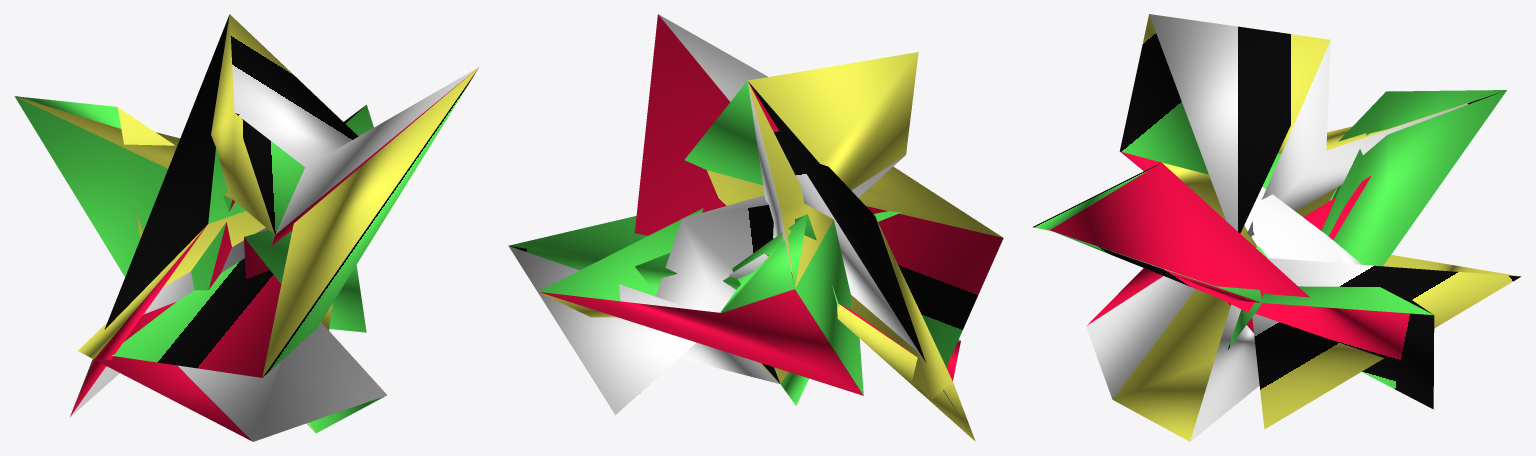
Rendered from junk0.fbx.
3 renders of one model, left to right at view 1: azimuth 30°, elevation 25°; view 2: azimuth 150°, elevation 25°; view 3: azimuth 270°, elevation 25°, orthographic. The views are drawn at different scales.
Visible parts, largest first — view 1: junk_Mesh; view 2: junk_Mesh; view 3: junk_Mesh.
Part boxes in pixels (x1,y1,x2,y2): junk_Mesh: [14, 14, 478, 441]; junk_Mesh: [508, 14, 1003, 441]; junk_Mesh: [1032, 14, 1521, 441].
Size of the model in its own units: 3.91 by 3.69 by 4.17.
Materials: 1 (1 with a texture image).
